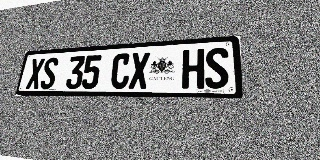3: (65, 56, 85, 89)
5: (81, 55, 102, 89)
C: (110, 53, 131, 89)
H: (182, 49, 204, 89)
S: (205, 47, 229, 89), (39, 57, 59, 89)
X: (128, 52, 150, 89), (25, 58, 45, 89)
